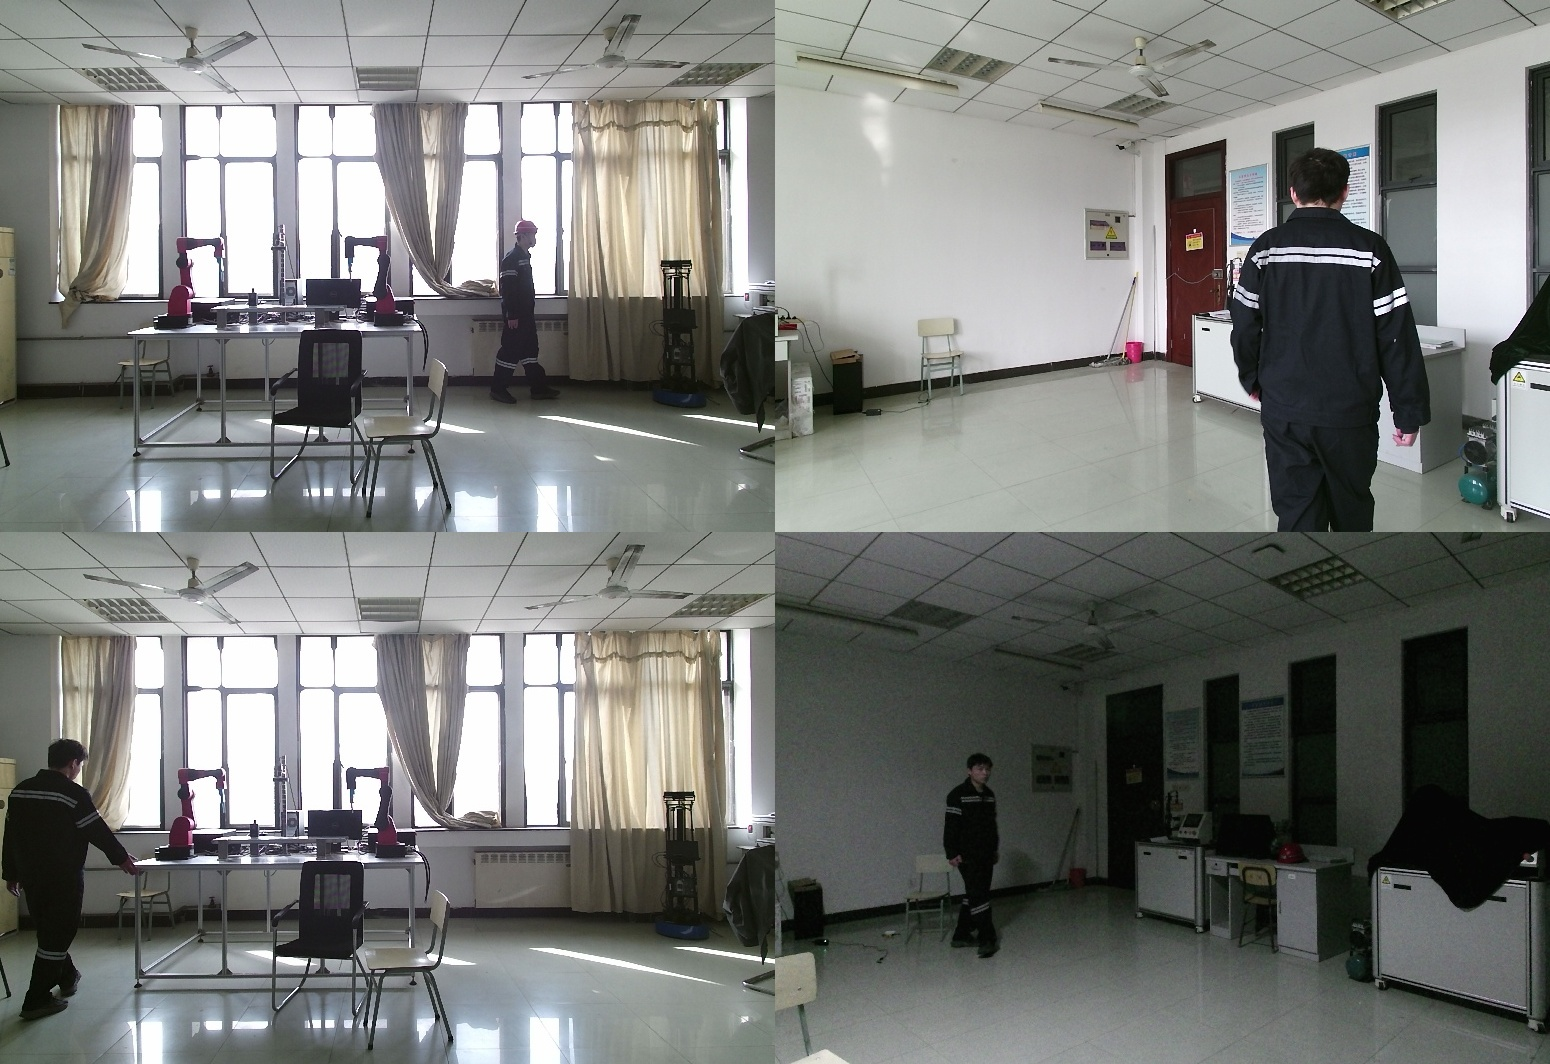person: (1235, 148, 1449, 532), (1, 738, 140, 1015), (937, 753, 1008, 964), (490, 220, 562, 412)
